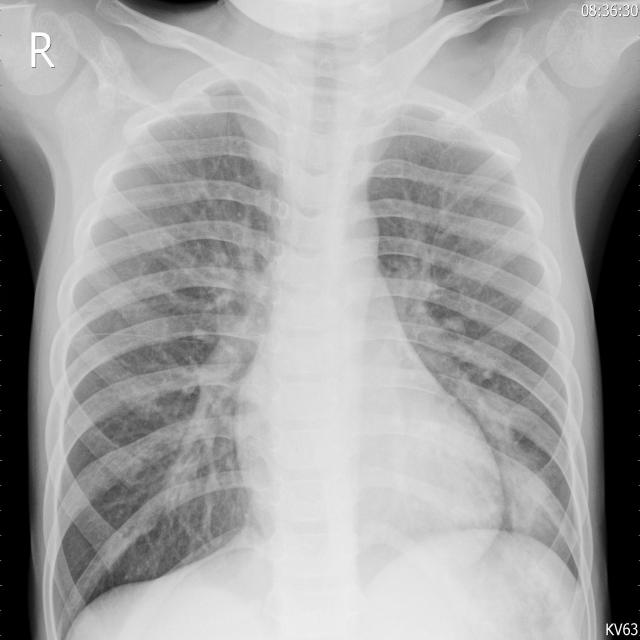low-pneumonia: (165, 212, 284, 532), (386, 222, 512, 456)
